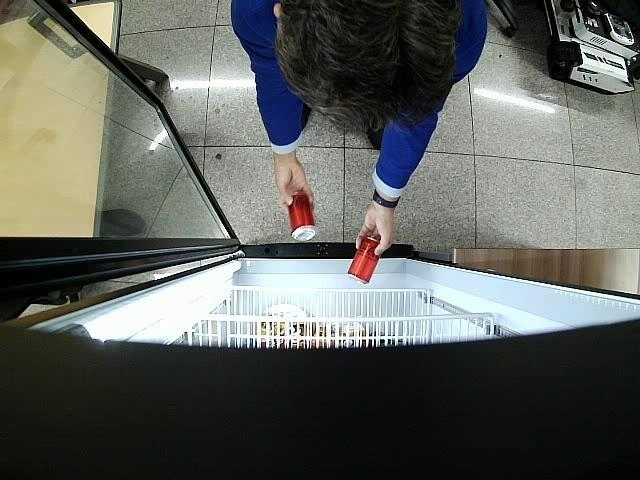11_cocaColaZero: (346, 237, 380, 284), (288, 194, 317, 242)
